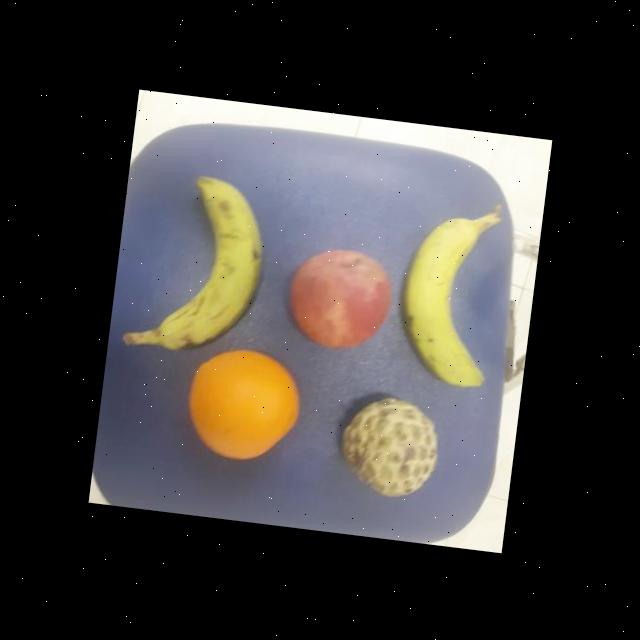Sakya fruit: (334, 388, 446, 503)
apple: (282, 238, 400, 356)
banana: (153, 166, 276, 362), (394, 202, 507, 392)
orange: (181, 342, 306, 468)
